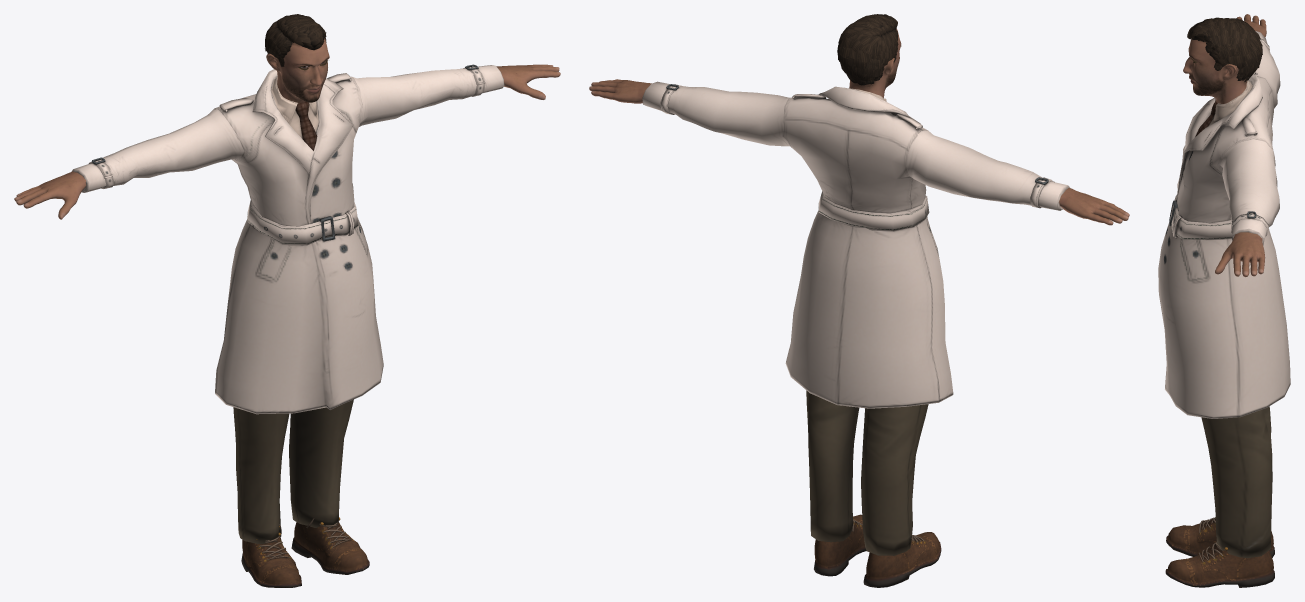
The model's file is scientist1.obj.
3 renders of one model, left to right at view 1: azimuth 30°, elevation 25°; view 2: azimuth 150°, elevation 25°; view 3: azimuth 270°, elevation 25°, orthographic.
Parts seen in each view (by area): view 1: Tops, Bottoms, Body, Shoes, Hair; view 2: Tops, Bottoms, Shoes, Body, Hair; view 3: Tops, Bottoms, Shoes, Body, Hair.
Boxes of the visible parts, <box> form: Tops: <box>71,64,504,414</box>; Bottoms: <box>233,399,353,544</box>; Body: <box>14,30,560,219</box>; Shoes: <box>241,517,369,587</box>; Hair: <box>265,14,326,66</box>; Tops: <box>642,81,1069,408</box>; Bottoms: <box>806,390,928,555</box>; Shoes: <box>814,514,941,587</box>; Body: <box>589,28,1129,225</box>; Hair: <box>837,14,898,85</box>; Tops: <box>1158,31,1290,418</box>; Bottoms: <box>1201,406,1272,558</box>; Shoes: <box>1165,517,1274,587</box>; Body: <box>1183,14,1266,277</box>; Hair: <box>1187,17,1262,81</box>.
Size of the model in its own units: 183 by 177 by 38.92.
Materials: 1 (1 with a texture image).
